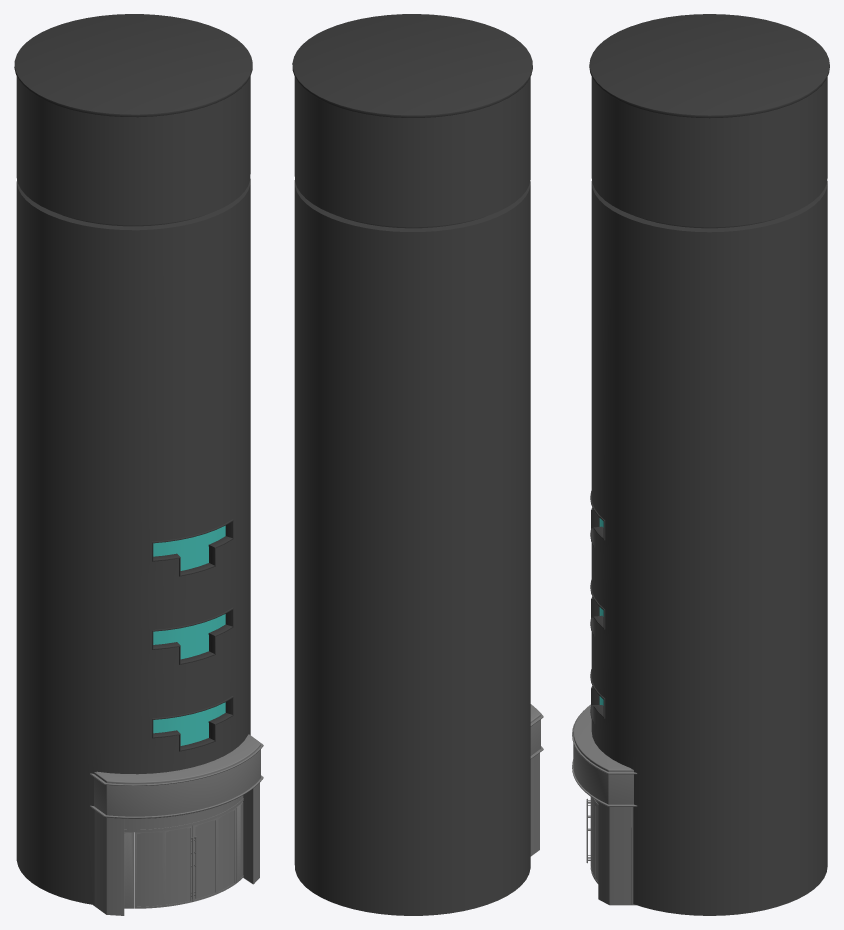
File: SM_building_cylindrical_02.fbx
3 renders of one model, left to right at view 1: azimuth 30°, elevation 25°; view 2: azimuth 150°, elevation 25°; view 3: azimuth 270°, elevation 25°, orthographic.
Visible parts, largest first — view 1: Object32385; view 2: Object32385; view 3: Object32385.
Boxes of the visible parts, <box> form: Object32385: <box>14,14,263,915</box>; Object32385: <box>292,14,543,915</box>; Object32385: <box>572,14,829,915</box>.
Bounding box in the file's own units: 370 × 1363 × 397.
